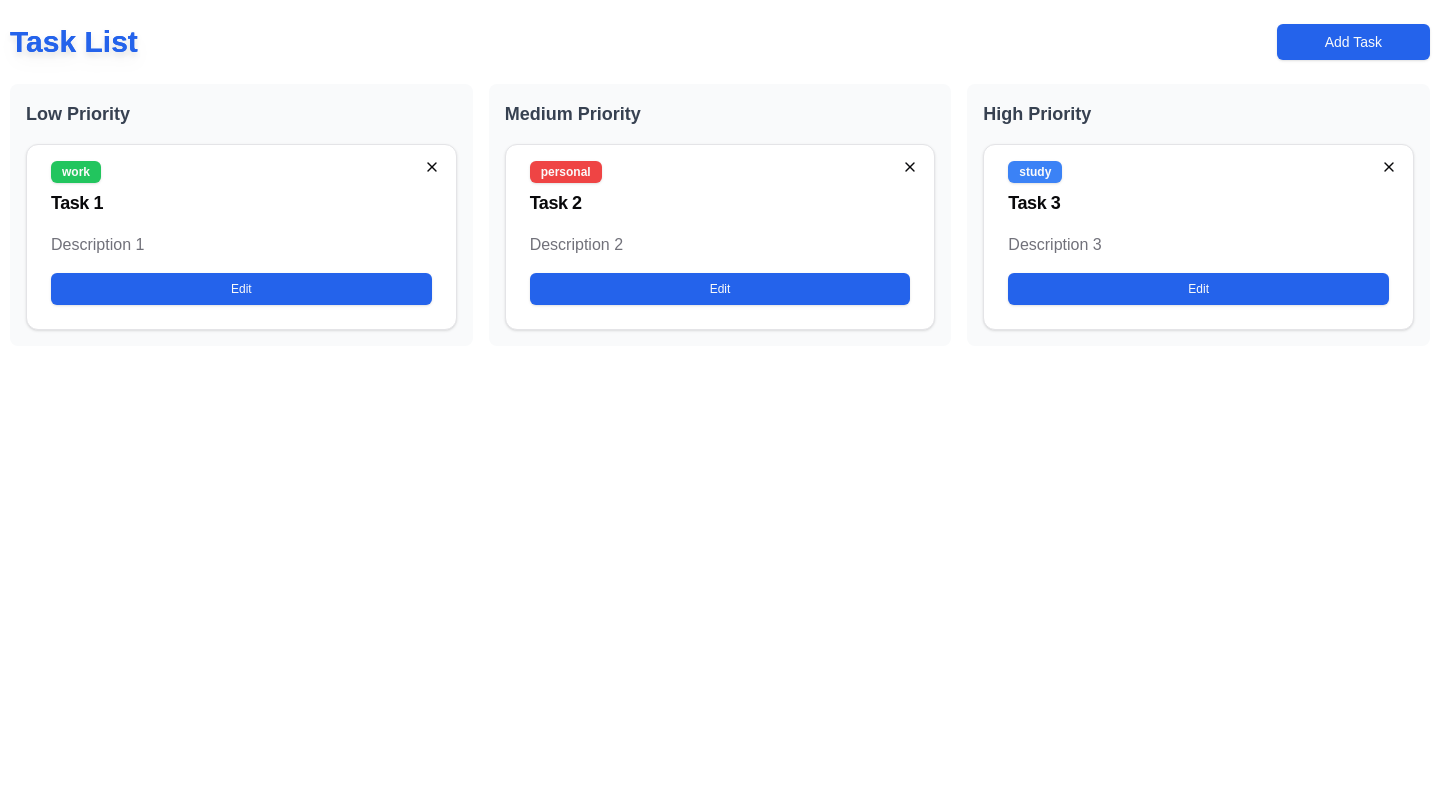
Test case: TasksContainer › opens edit task modal with correct task data
Click the button "Edit" below "Description 1" at (241, 289), box [51,273,432,305]
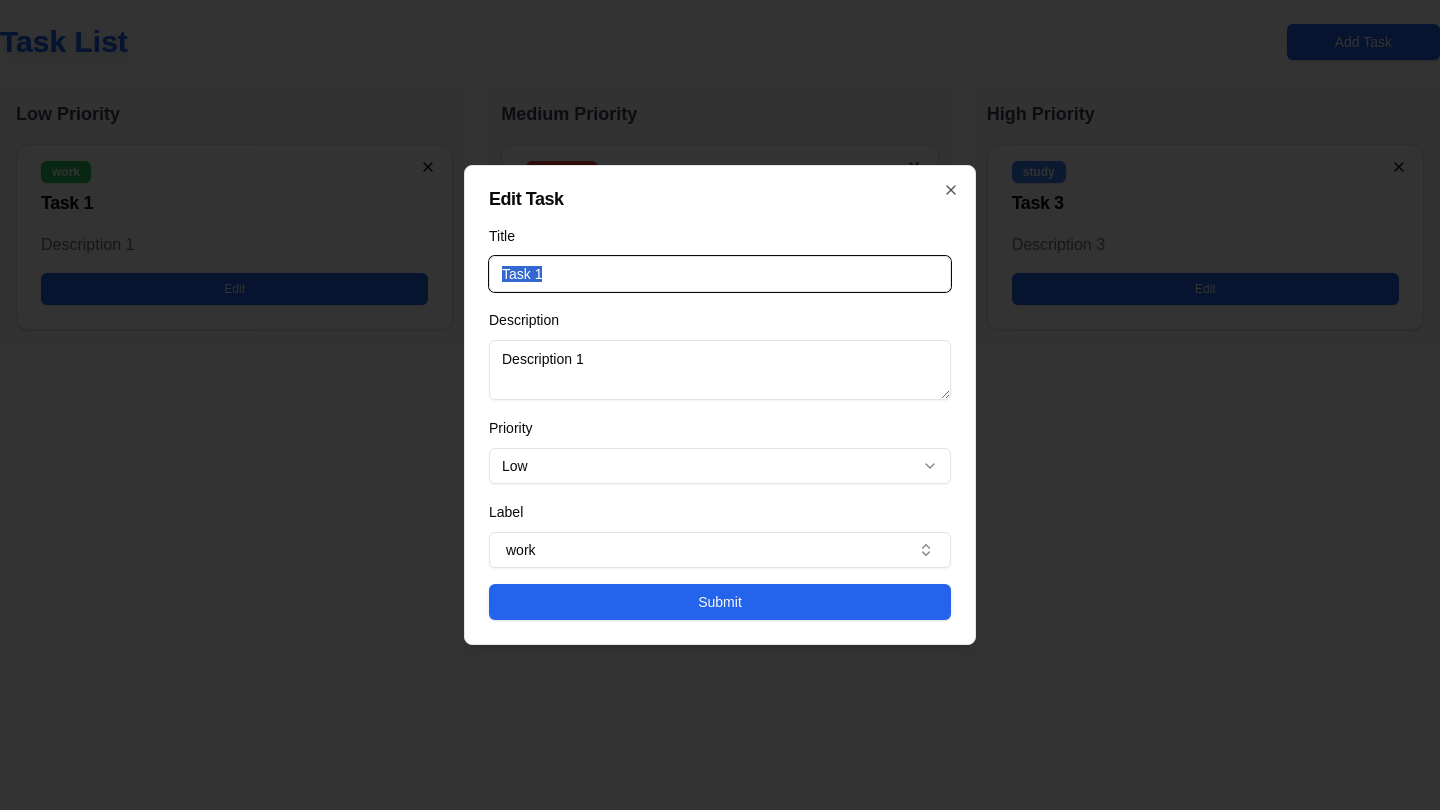
Check: the heading "Edit Task" is shown, box [489,189,564,209]
